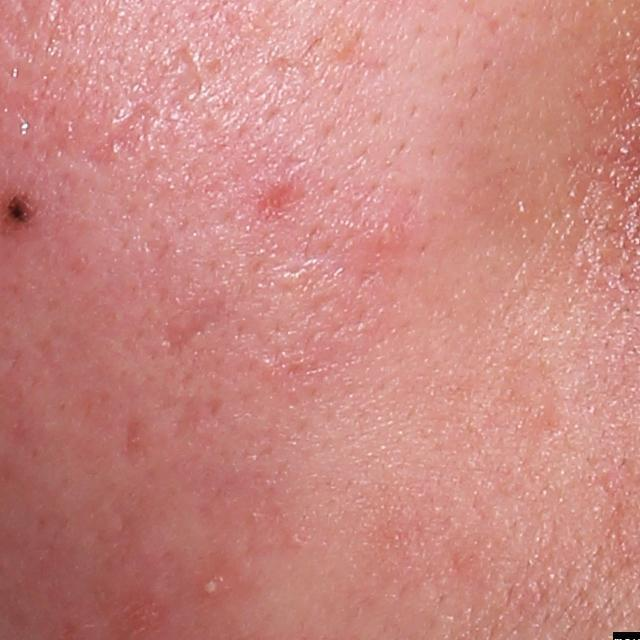atrophic_scar: (88, 101, 161, 164), (116, 416, 150, 467)
pustule: (196, 567, 232, 601)
